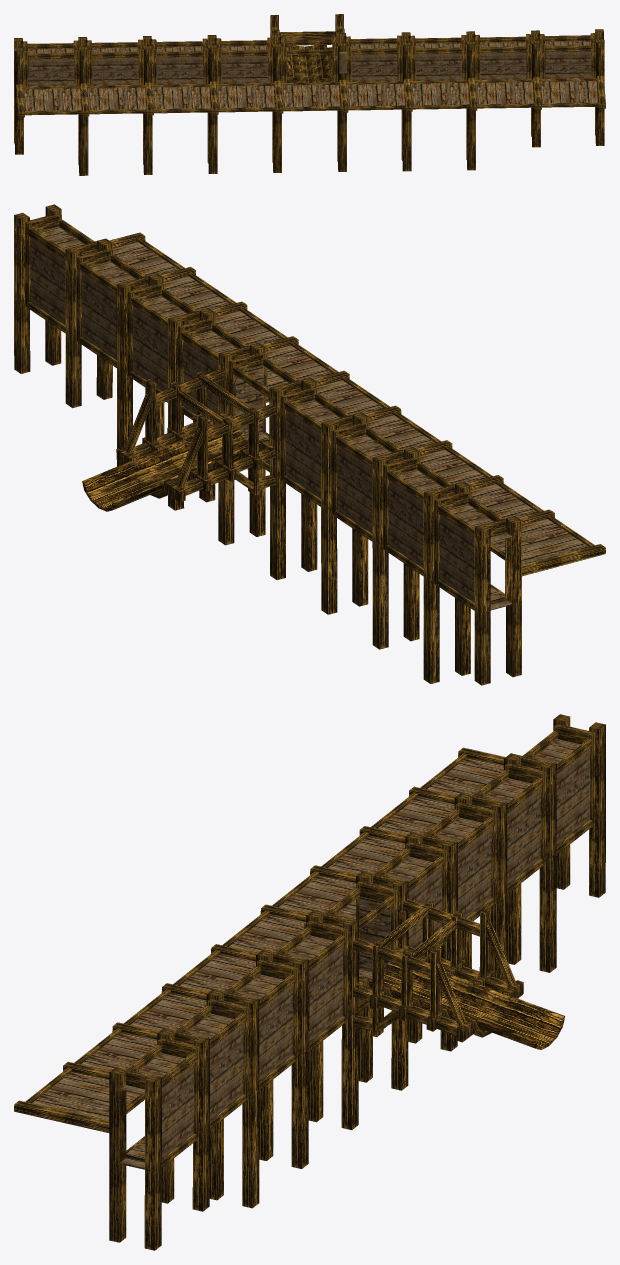
Rendered from RM_PLAYSURFACE_FINAL_RM_SMALL_SLUCE.fbx.
3 renders of one model, top to bottom at view 1: azimuth 30°, elevation 25°; view 2: azimuth 150°, elevation 25°; view 3: azimuth 270°, elevation 25°, orthographic. The views are drawn at different scales.
Parts seen in each view (by area): view 1: RM_PLAYSURFACE_FINAL_RM_SMALL_SLUCE; view 2: RM_PLAYSURFACE_FINAL_RM_SMALL_SLUCE; view 3: RM_PLAYSURFACE_FINAL_RM_SMALL_SLUCE.
Part boxes in pixels (bbox=[...]): RM_PLAYSURFACE_FINAL_RM_SMALL_SLUCE: bbox=[14, 14, 605, 175]; RM_PLAYSURFACE_FINAL_RM_SMALL_SLUCE: bbox=[14, 204, 605, 685]; RM_PLAYSURFACE_FINAL_RM_SMALL_SLUCE: bbox=[14, 714, 605, 1250].
Size of the model in its own units: 144071 by 35201 by 92534.
3 materials, 3 textured.
